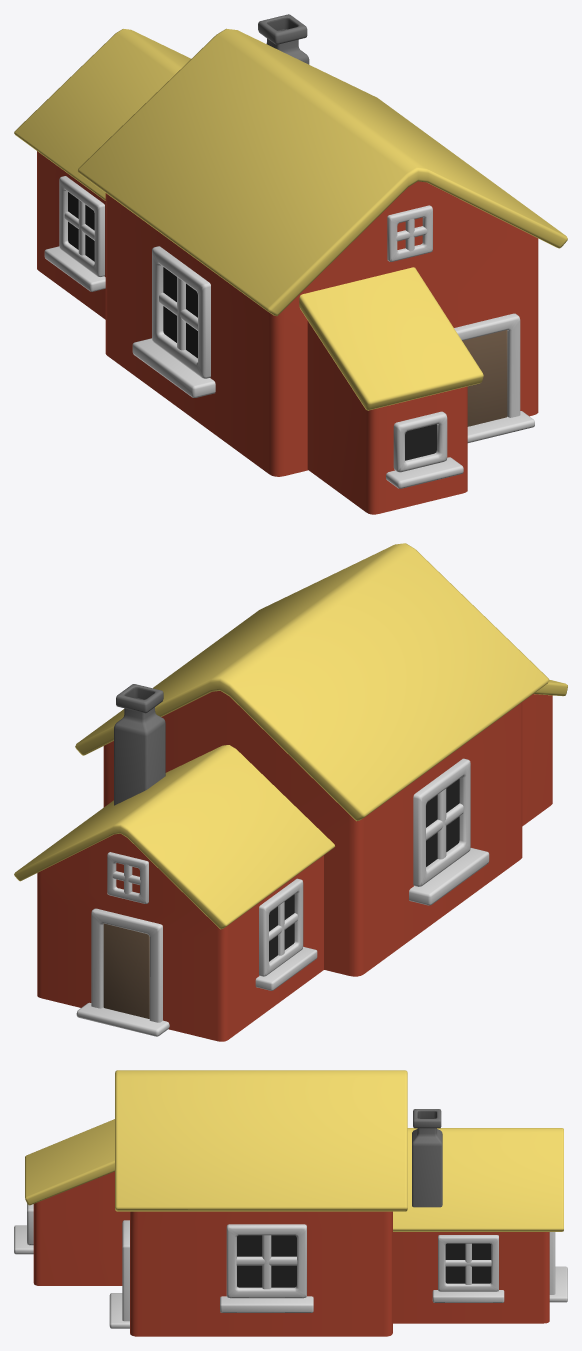
File: House_04.fbx
3 renders of one model, top to bottom at view 1: azimuth 30°, elevation 25°; view 2: azimuth 150°, elevation 25°; view 3: azimuth 270°, elevation 25°, orthographic. The views are drawn at different scales.
Visible parts, largest first — view 1: House_04; view 2: House_04; view 3: House_04.
Part boxes in pixels (left/top/right/bottom): House_04: left=14, top=14, right=567, bottom=514; House_04: left=14, top=543, right=567, bottom=1041; House_04: left=14, top=1070, right=567, bottom=1336.
Size of the model in its own units: 3783 by 3300 by 7671.
